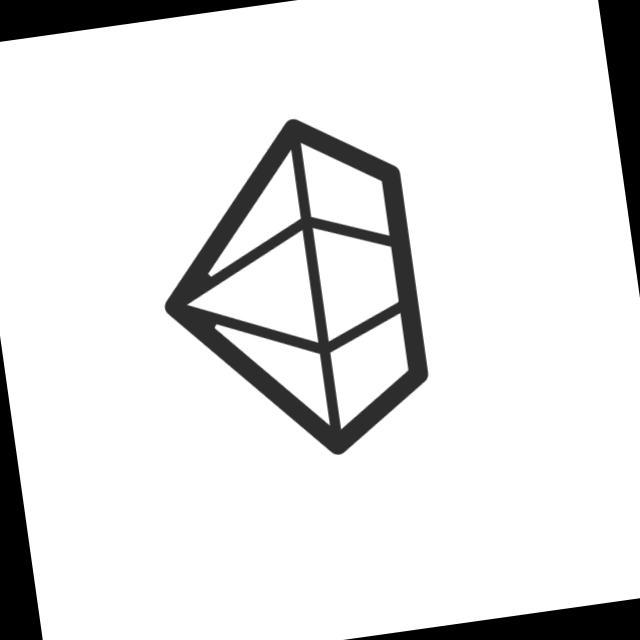diamond: (133, 102, 443, 483)
